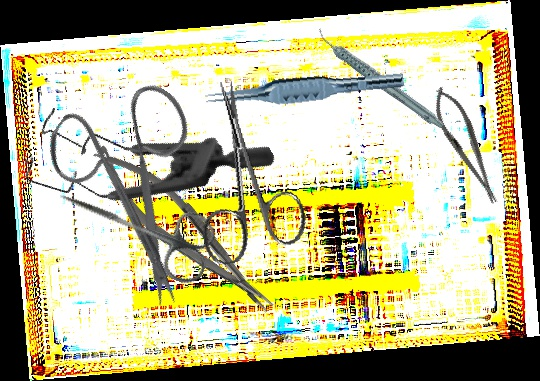Handpiece: (316, 6, 445, 150)
Iris Scissors: (6, 51, 272, 313), (172, 70, 312, 268), (46, 165, 223, 289)
Needle Holder: (83, 131, 282, 331), (424, 81, 508, 211)
Speculum: (1, 23, 278, 278)
Tissue Forceps: (204, 61, 405, 116)
